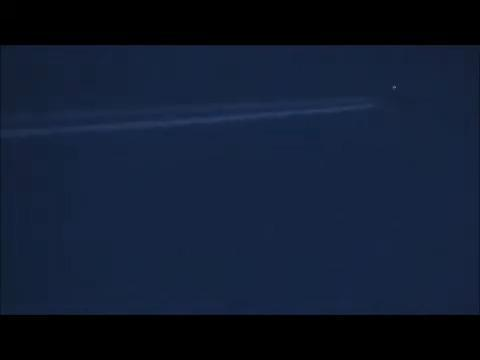Plane: (128, 77, 419, 119)
